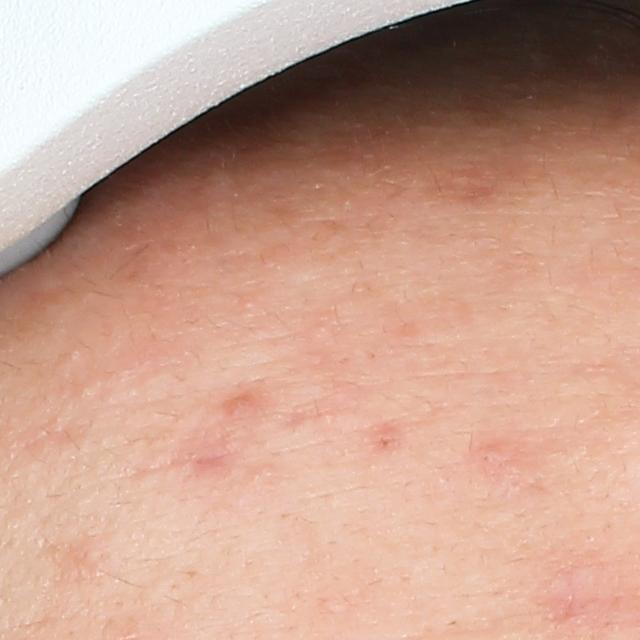papule: (225, 396, 256, 418)
